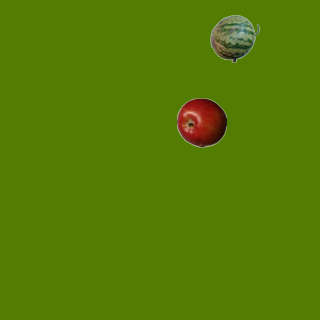Apple Braeburn: (176, 97, 226, 147)
Watermelon: (209, 13, 259, 63)
